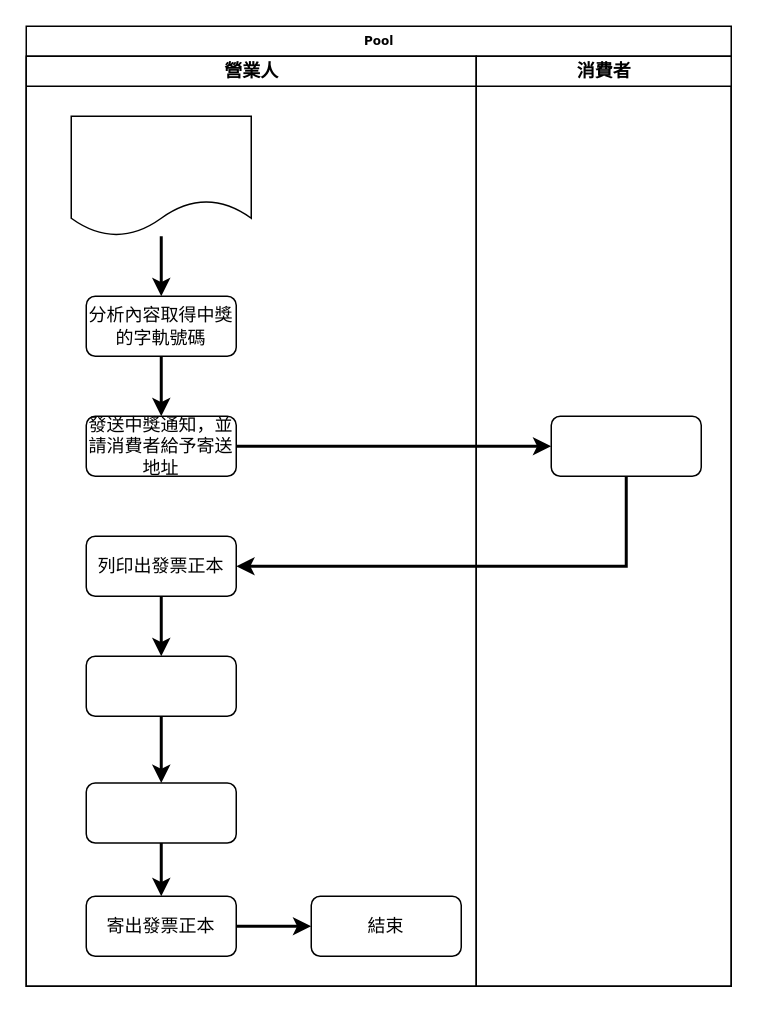
This 758x1013 diagram has some shape labels left out. Here are the shapes that lost their labels. From the top down, the box of each, then its label:
(70, 115, 251, 236): 雙月29日到電子發票平台下載中獎清冊,並將檔案解密
(550, 415, 701, 476): 給予營業人寄送地址
(85, 655, 236, 716): 貼上掛號用的貼紙
(85, 782, 236, 843): 紀錄掛號貼紙的編號，方便追查
